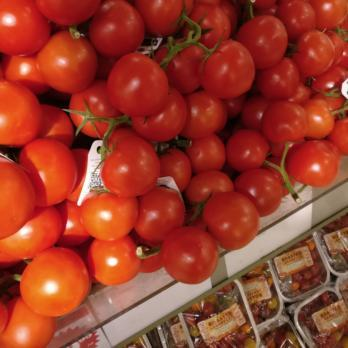Tomato: (0, 0, 345, 179), (0, 179, 278, 284), (0, 251, 96, 345)
